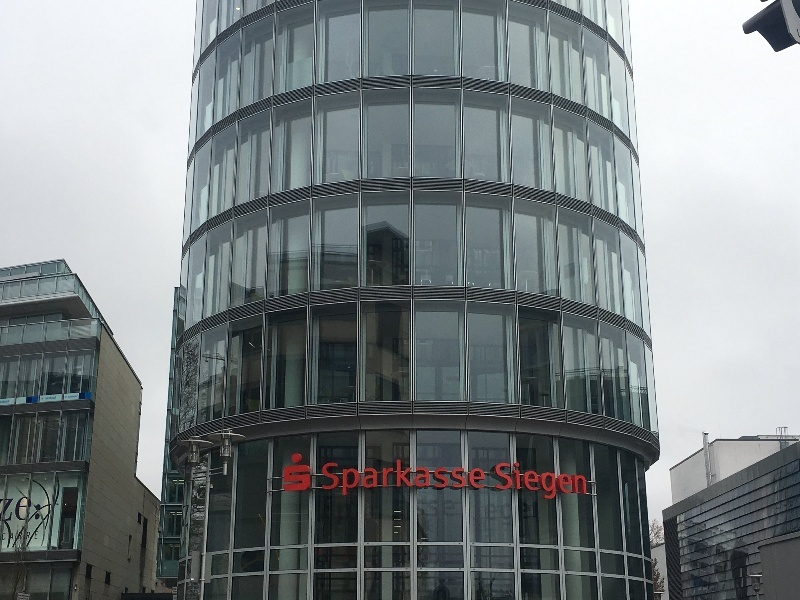text: (497, 460, 512, 511), (513, 460, 528, 511), (529, 460, 544, 511), (545, 460, 560, 511), (561, 460, 576, 511), (337, 459, 352, 498), (353, 459, 368, 498), (369, 459, 384, 498), (385, 459, 400, 498), (401, 459, 416, 498), (417, 459, 432, 498), (433, 459, 448, 498), (449, 459, 464, 498), (465, 459, 480, 498), (322, 459, 336, 498), (577, 460, 587, 511), (497, 503, 513, 531), (289, 465, 304, 492), (1, 496, 16, 522), (17, 496, 32, 522), (485, 503, 496, 531), (417, 501, 432, 518), (433, 501, 448, 518), (33, 496, 42, 522), (481, 459, 486, 498), (305, 465, 311, 492), (17, 533, 32, 542), (449, 501, 456, 518), (3, 533, 16, 542), (284, 465, 288, 492), (33, 533, 39, 542)
